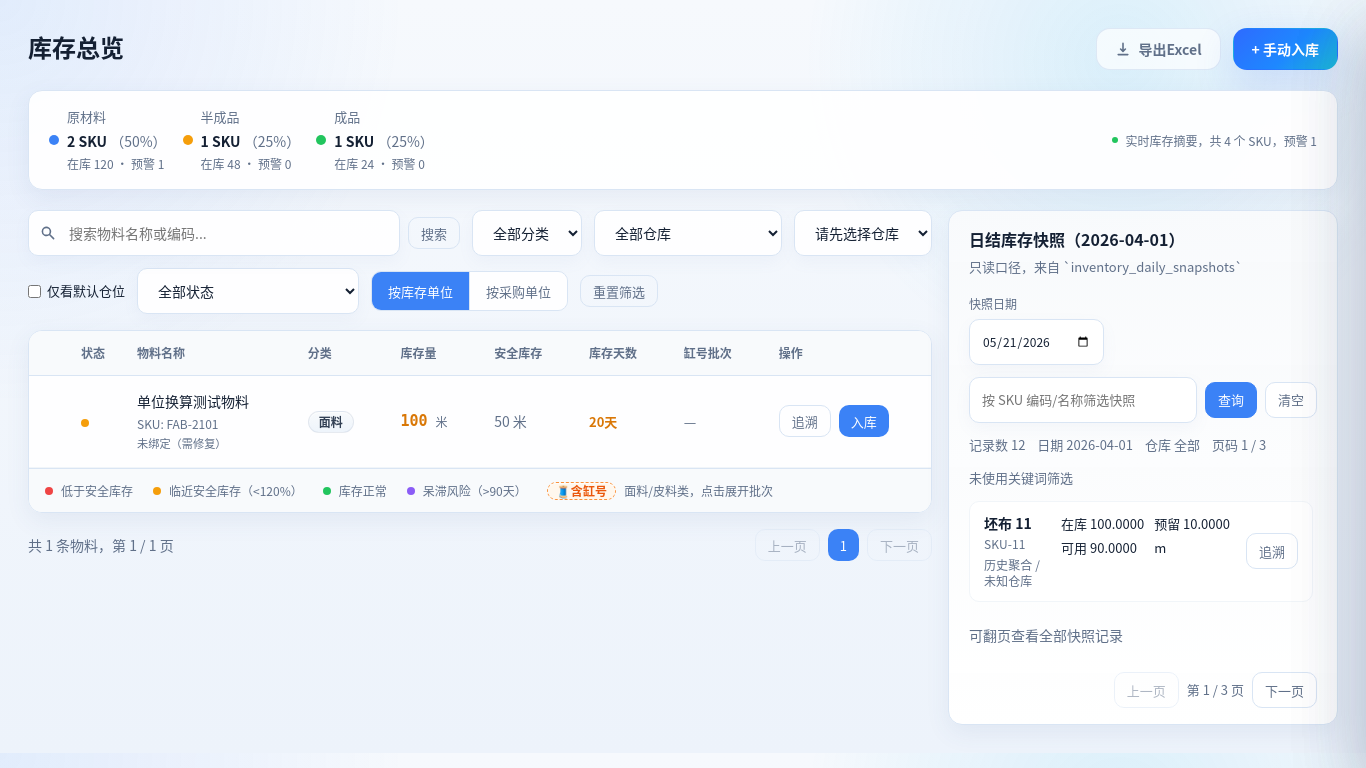
Test: InventoryPage › 切换按采购单位后应按换算系数展示库存量和安全库存
Expected: the text "50 米" is shown, [494, 411, 527, 431]
Click the button "按采购单位" at coordinates (518, 291), box [470, 272, 567, 310]
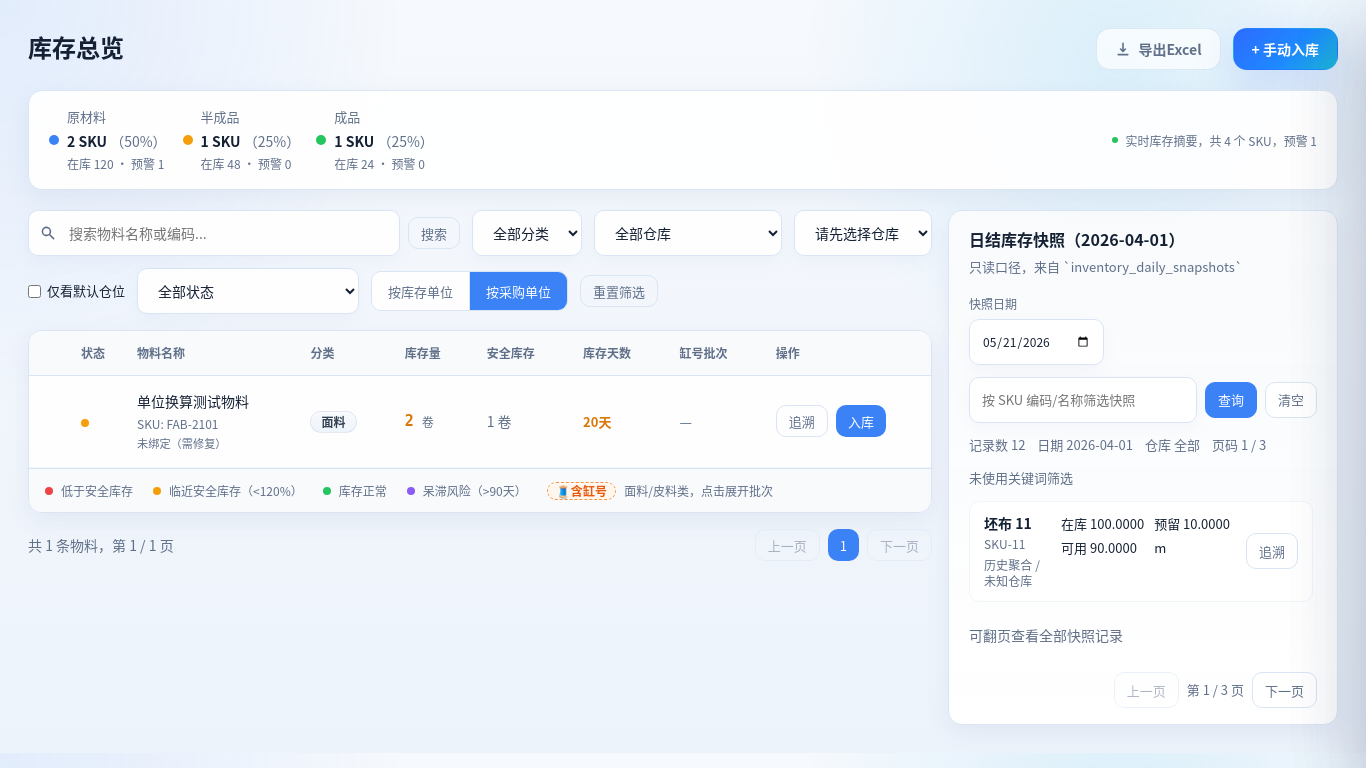
Now the text "1 卷" is shown, box [487, 411, 512, 431]
